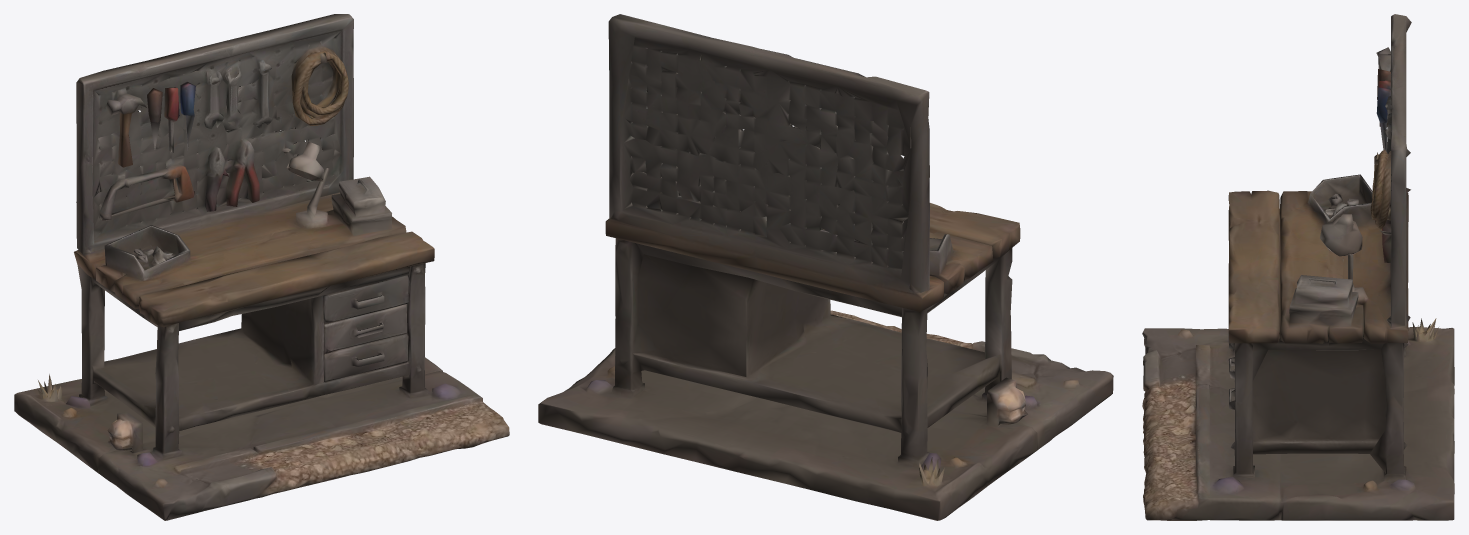
Rendered from garage_workbench.glb.
3 renders of one model, left to right at view 1: azimuth 30°, elevation 25°; view 2: azimuth 150°, elevation 25°; view 3: azimuth 270°, elevation 25°, orthographic. The views are drawn at different scales.
Parts seen in each view (by area): view 1: tripo_node_88ff8dfd-9e2a-45bb-b5e0-bc986e6c6fb2; view 2: tripo_node_88ff8dfd-9e2a-45bb-b5e0-bc986e6c6fb2; view 3: tripo_node_88ff8dfd-9e2a-45bb-b5e0-bc986e6c6fb2.
Boxes of the visible parts, <box> form: tripo_node_88ff8dfd-9e2a-45bb-b5e0-bc986e6c6fb2: <box>14,14,509,520</box>; tripo_node_88ff8dfd-9e2a-45bb-b5e0-bc986e6c6fb2: <box>538,14,1113,520</box>; tripo_node_88ff8dfd-9e2a-45bb-b5e0-bc986e6c6fb2: <box>1142,14,1454,520</box>.
Bounding box in the file's own units: 1 × 0.9441 × 0.7518.
Materials: 1 (1 with a texture image).
